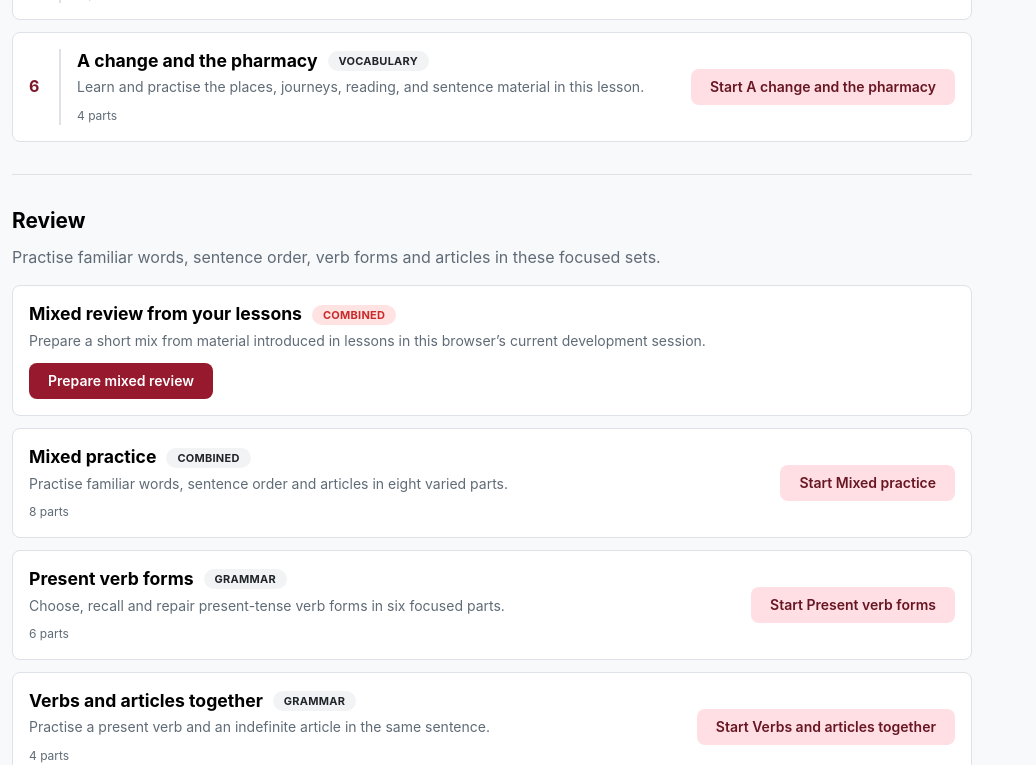
it: prepares an empty cumulative review only after the explicit action
(page scrolled)
Click the button "Prepare mixed review" at (121, 381), box [29, 363, 213, 399]
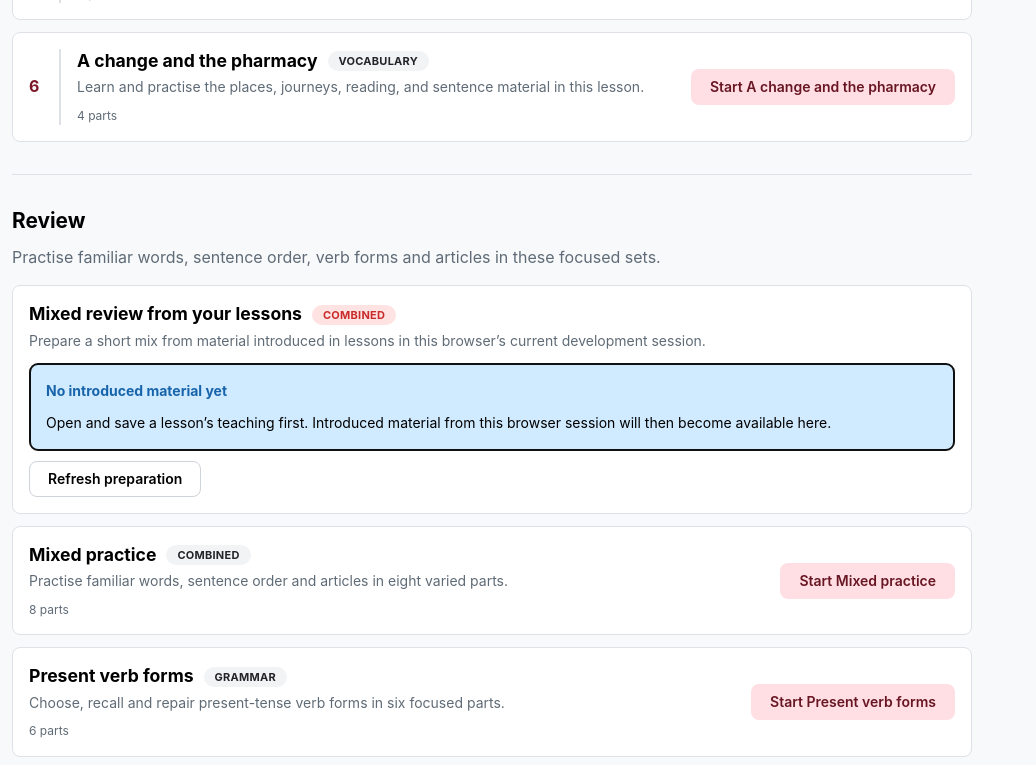
Now the text "No introduced material yet" is shown, box [46, 380, 227, 402]
Now the text "Open and save a lesson’s teaching first" is shown, box [46, 414, 831, 431]
